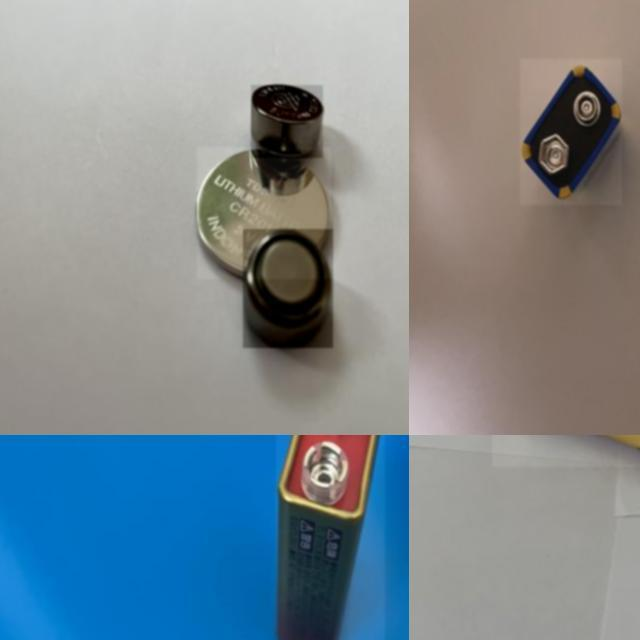9V: (276, 435, 385, 640), (520, 60, 623, 206)
